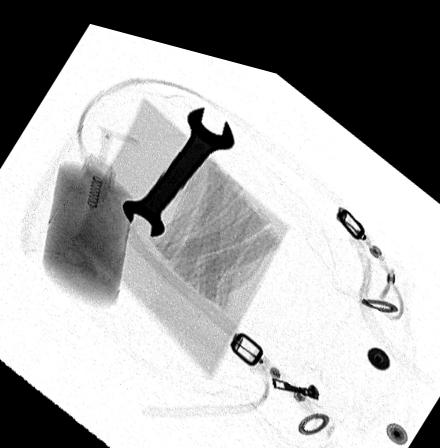Wrench: (121, 96, 237, 232)
